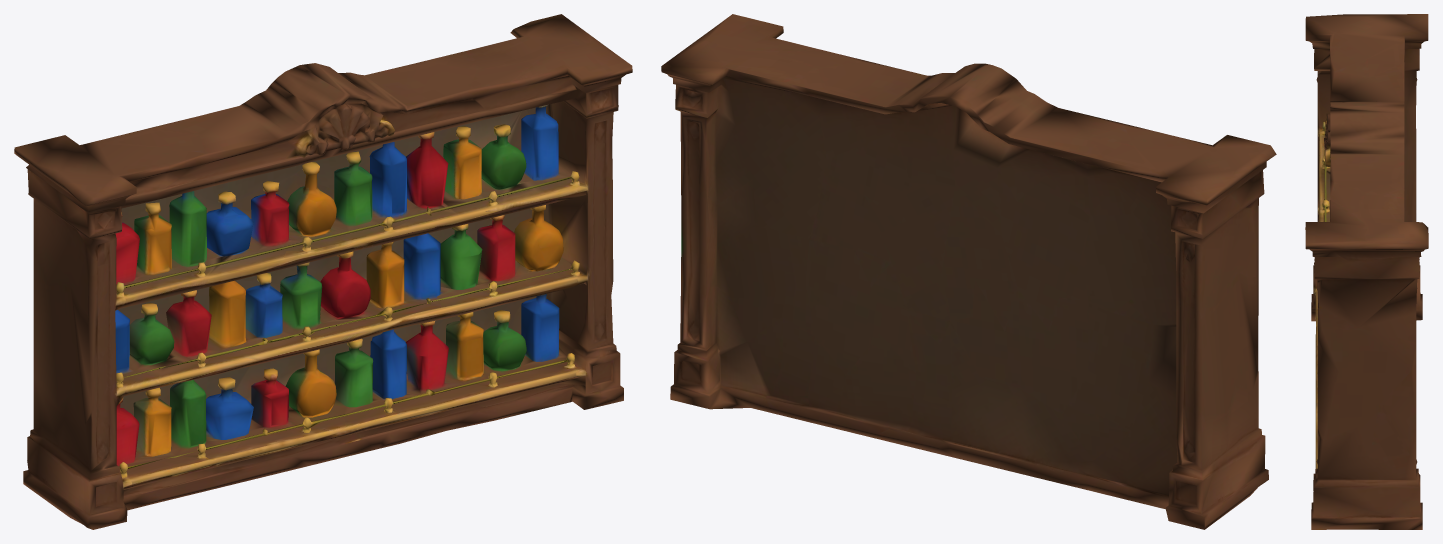
File: backbar.glb
3 renders of one model, left to right at view 1: azimuth 30°, elevation 25°; view 2: azimuth 150°, elevation 25°; view 3: azimuth 270°, elevation 25°, orthographic. The views are drawn at different scales.
Parts seen in each view (by area): view 1: tripo_node_f2feea2d-4476-4c59-ba23-c5cb23a960f4; view 2: tripo_node_f2feea2d-4476-4c59-ba23-c5cb23a960f4; view 3: tripo_node_f2feea2d-4476-4c59-ba23-c5cb23a960f4.
Part boxes in pixels (bbox=[...]): tripo_node_f2feea2d-4476-4c59-ba23-c5cb23a960f4: bbox=[14, 14, 632, 529]; tripo_node_f2feea2d-4476-4c59-ba23-c5cb23a960f4: bbox=[661, 14, 1276, 529]; tripo_node_f2feea2d-4476-4c59-ba23-c5cb23a960f4: bbox=[1305, 14, 1428, 529].
Bounding box in the file's own units: 0.9782 × 0.6186 × 0.2214.
1 material, 1 textured.
